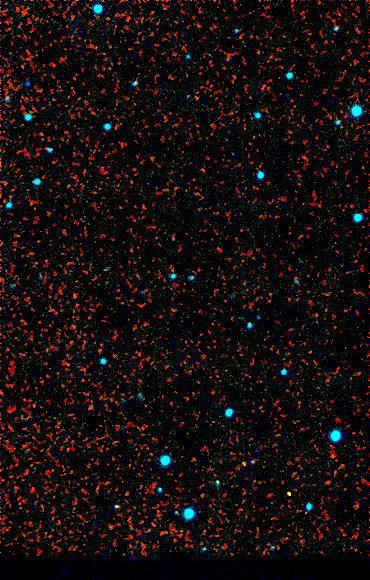star: (273, 478, 303, 508)
